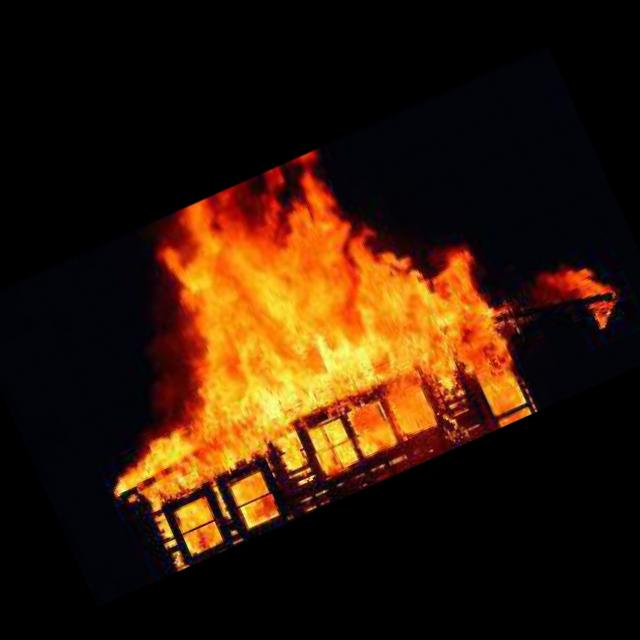fire: (18, 62, 640, 580)
